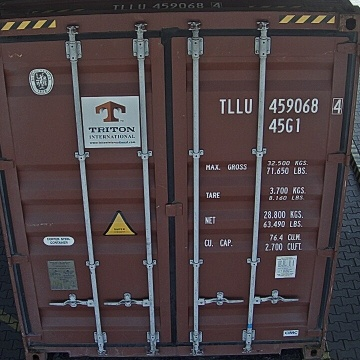serial_id: (220, 98, 343, 113)
